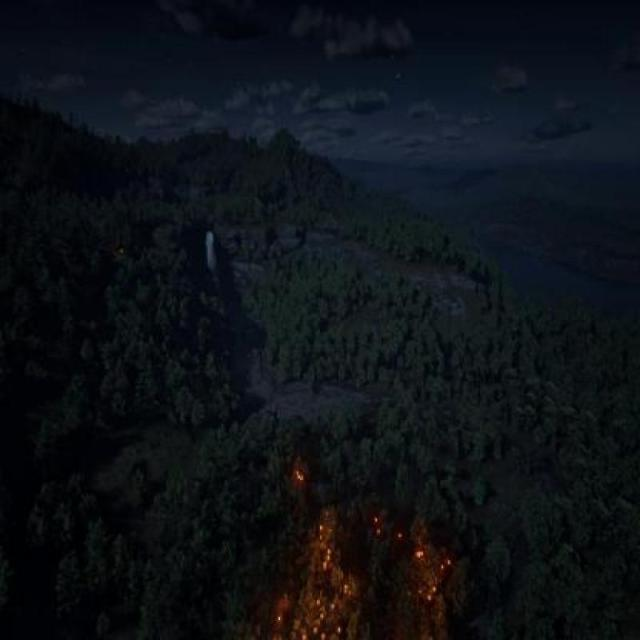Fire: (261, 458, 462, 640)
